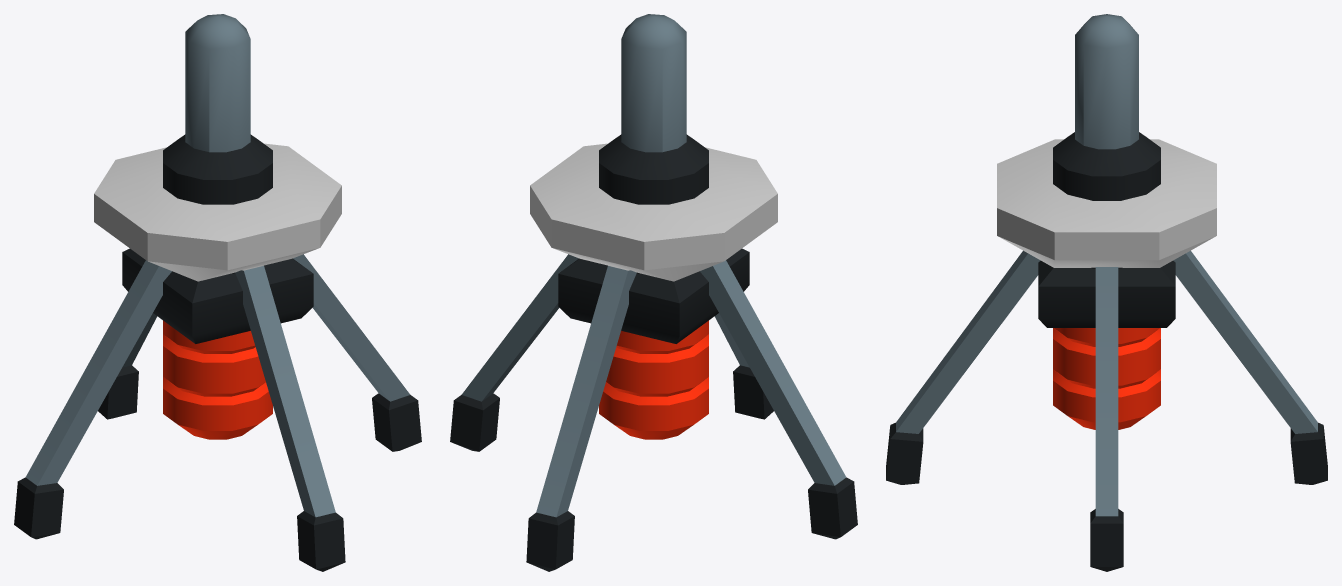
The model's file is radar_bottom.obj.
The picture shows the model from 3 angles, left to right: view 1: azimuth 30°, elevation 25°; view 2: azimuth 150°, elevation 25°; view 3: azimuth 270°, elevation 25°; orthographic projection. The views are drawn at different scales.
Visible parts, largest first — view 1: radar_bottom_Cube.149; view 2: radar_bottom_Cube.149; view 3: radar_bottom_Cube.149.
Part boxes in pixels (bbox=[...]): radar_bottom_Cube.149: bbox=[14, 14, 421, 571]; radar_bottom_Cube.149: bbox=[450, 14, 857, 571]; radar_bottom_Cube.149: bbox=[886, 14, 1327, 571].
Size of the model in its own units: 0.8678 by 1.01 by 0.8678.
